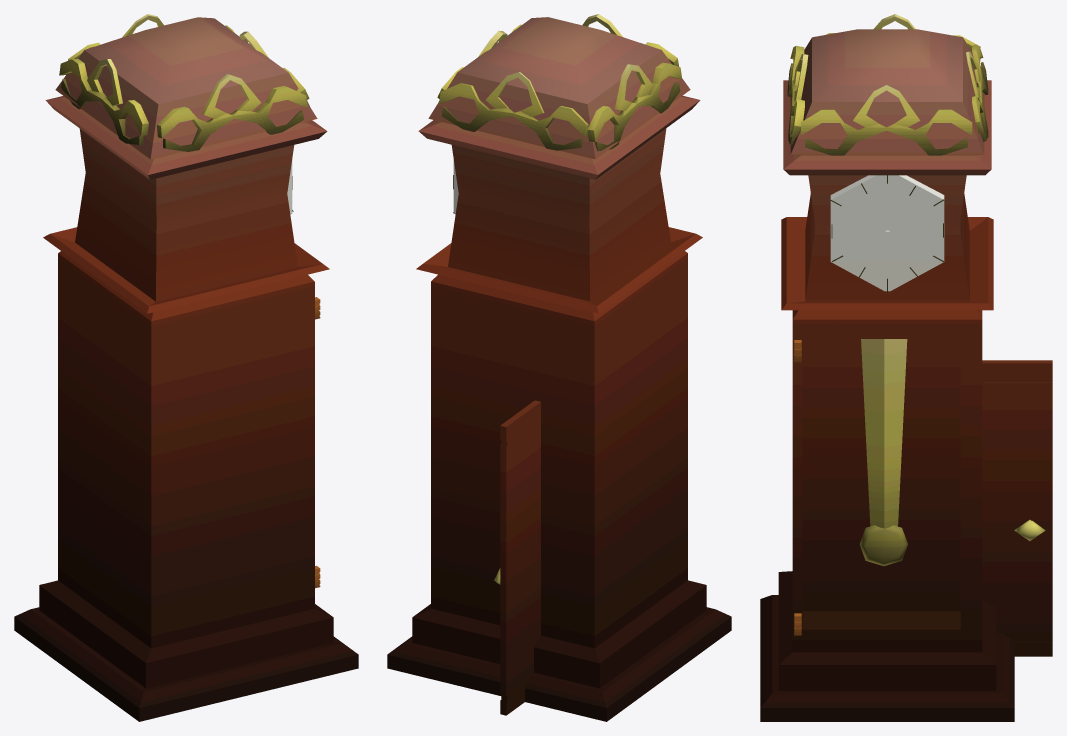
The model's file is SM_GrandfatherClock.fbx.
The picture shows the model from 3 angles, left to right: view 1: azimuth 30°, elevation 25°; view 2: azimuth 150°, elevation 25°; view 3: azimuth 270°, elevation 25°; orthographic projection.
Parts seen in each view (by area): view 1: ClockBase3, pCube5, pCube4; view 2: ClockBase3, ClockDoor, pCube3, pCube4; view 3: ClockBase3, ClockDoor, Face, Pendulum, pCube2, pCube5, pCube3.
Boxes of the visible parts, left/top/right/bottom form: ClockBase3: left=14, top=17, right=358, bottom=721; pCube5: left=157, top=74, right=307, bottom=151; pCube4: left=59, top=58, right=148, bottom=144; ClockBase3: left=387, top=17, right=731, bottom=721; ClockDoor: left=500, top=400, right=540, bottom=715; pCube3: left=439, top=72, right=588, bottom=150; pCube4: left=587, top=62, right=681, bottom=151; ClockBase3: left=760, top=29, right=1014, bottom=721; ClockDoor: left=982, top=360, right=1052, bottom=656; Face: left=830, top=175, right=944, bottom=291; Pendulum: left=859, top=339, right=907, bottom=566; pCube2: left=801, top=85, right=972, bottom=155; pCube5: left=787, top=45, right=808, bottom=145; pCube3: left=966, top=44, right=988, bottom=141.
Bounding box in the file's own units: 95.46 × 256 × 108.
1 material, 1 textured.
